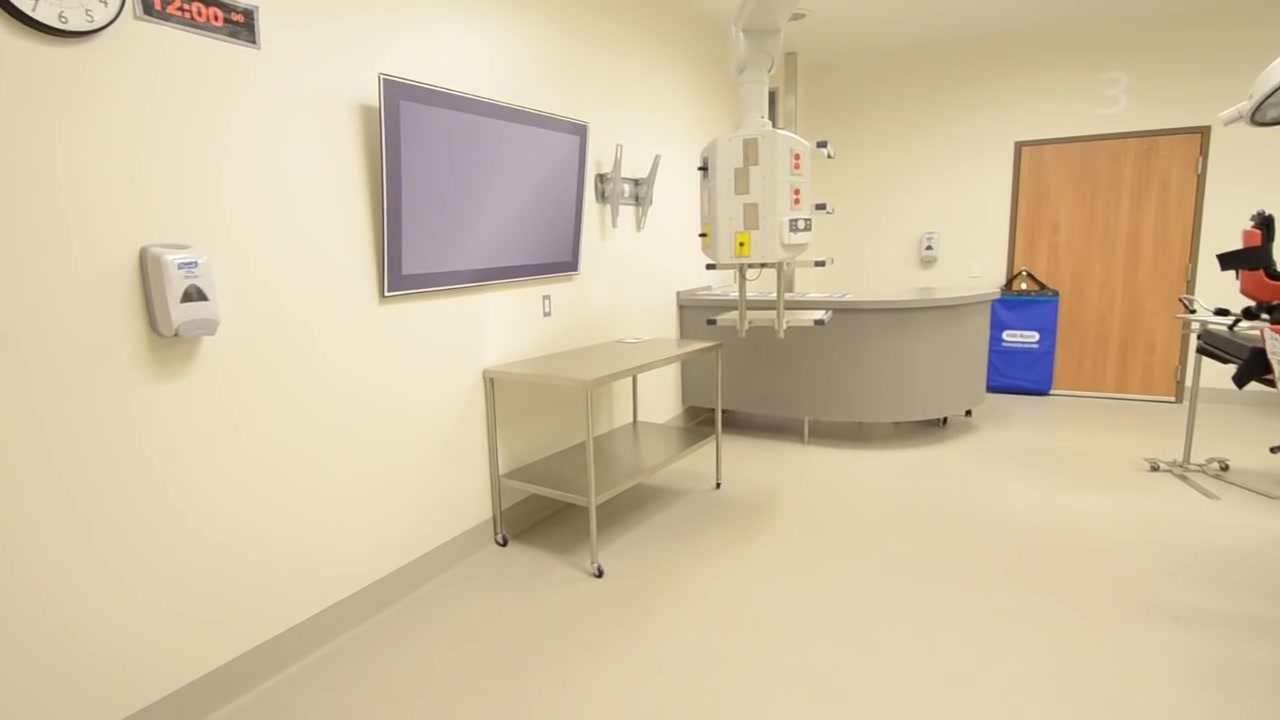TV: (377, 72, 590, 298)
counter: (677, 285, 991, 437)
countertop: (674, 280, 1003, 312)
dispenser: (140, 243, 220, 338), (918, 231, 941, 263)
operating_bed: (1195, 318, 1279, 453)
surgical_light: (1217, 58, 1280, 129)
utility_cart: (482, 338, 723, 579), (1143, 295, 1280, 501)
